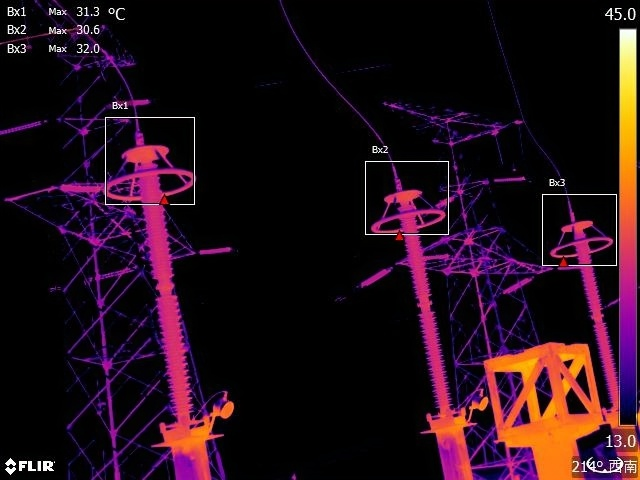insulator: (1, 117, 47, 142), (353, 265, 395, 292), (192, 244, 241, 260), (111, 96, 156, 113)
lightning arrester: (106, 135, 230, 435), (370, 184, 474, 427), (552, 212, 618, 404)
